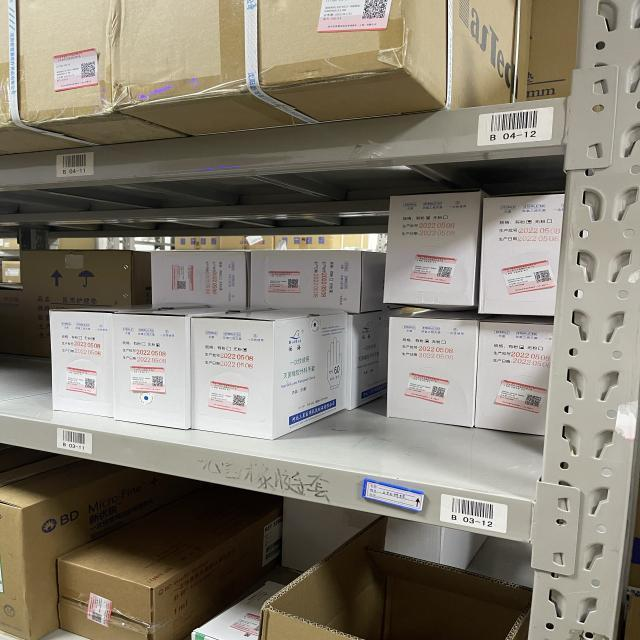box: (118, 0, 532, 130), (49, 484, 283, 640), (0, 455, 188, 640), (263, 519, 538, 639), (0, 0, 188, 156), (193, 308, 343, 443), (22, 253, 150, 360), (118, 304, 217, 426), (383, 190, 475, 308), (481, 192, 564, 321), (474, 312, 557, 437), (53, 304, 134, 422), (389, 317, 475, 424), (249, 250, 386, 314), (193, 583, 300, 639), (149, 254, 250, 313), (341, 312, 390, 414), (0, 284, 28, 358)
